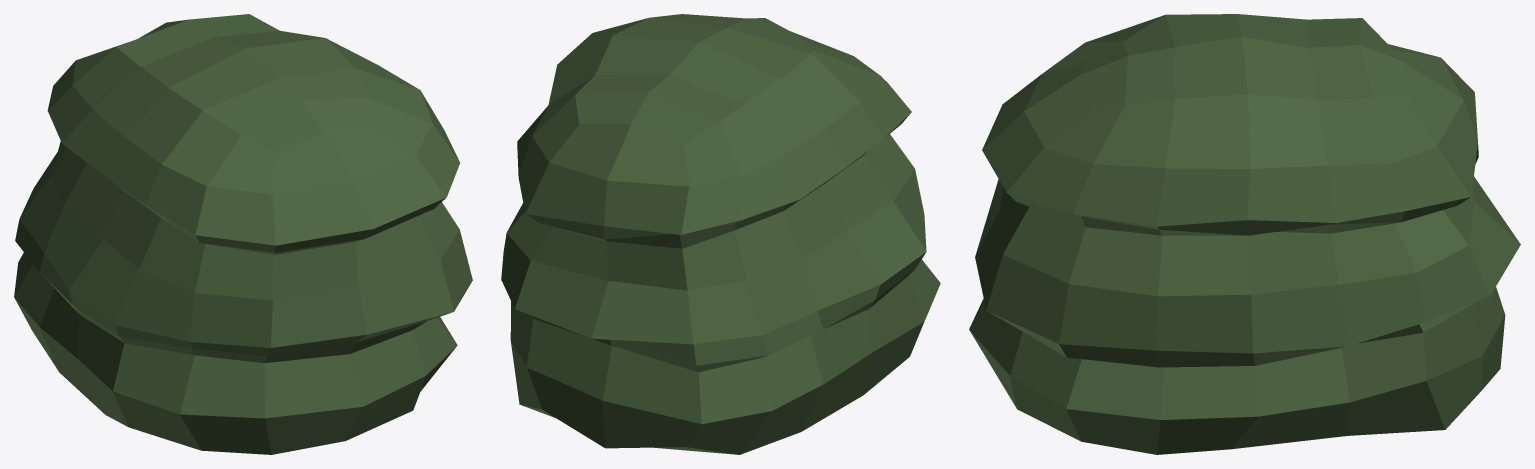
Rendered from Bush_1.glb.
The picture shows the model from 3 angles, left to right: view 1: azimuth 30°, elevation 25°; view 2: azimuth 150°, elevation 25°; view 3: azimuth 270°, elevation 25°; orthographic projection. The views are drawn at different scales.
Parts seen in each view (by area): view 1: Bush_1; view 2: Bush_1; view 3: Bush_1.
Boxes of the visible parts, x1,y1,x2,y2 form: Bush_1: (14,14,472,454); Bush_1: (501,14,940,454); Bush_1: (969,14,1520,454).
Size of the model in its own units: 1.33 by 1.24 by 1.69.
